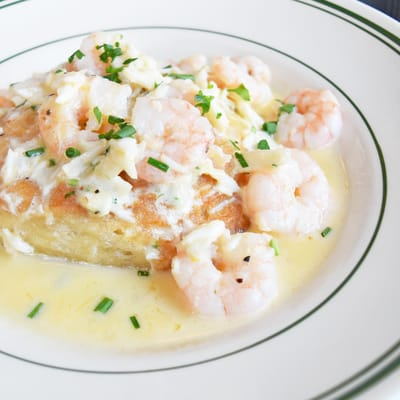sushi: (1, 11, 397, 396)
